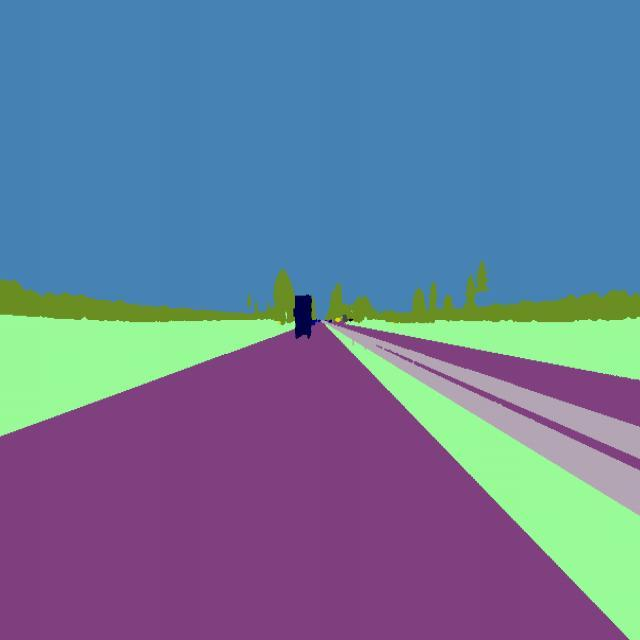safe: (289, 292, 315, 346)
